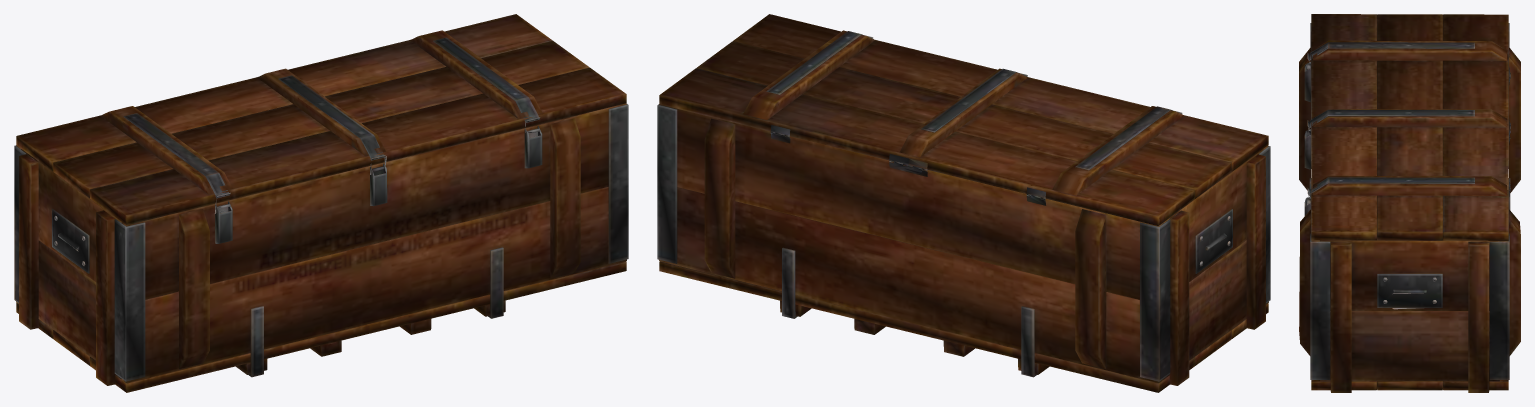
File: wooden_military_crate.glb
The picture shows the model from 3 angles, left to right: view 1: azimuth 30°, elevation 25°; view 2: azimuth 150°, elevation 25°; view 3: azimuth 270°, elevation 25°; orthographic projection. The views are drawn at different scales.
Parts seen in each view (by area): view 1: wooden_military_crate; view 2: wooden_military_crate; view 3: wooden_military_crate.
Boxes of the visible parts, <box> form: wooden_military_crate: <box>14,14,628,392</box>; wooden_military_crate: <box>657,14,1270,392</box>; wooden_military_crate: <box>1299,14,1520,392</box>.
Size of the model in its own units: 1.24 by 0.4639 by 0.5158.
Materials: 1 (1 with a texture image).
